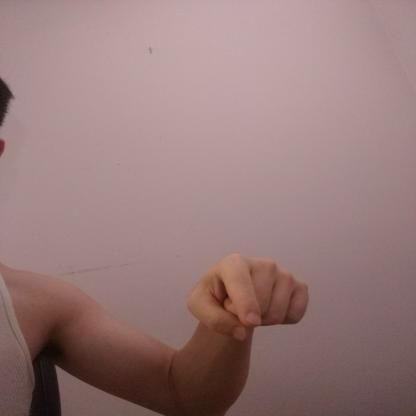Z: (183, 251, 313, 343)
